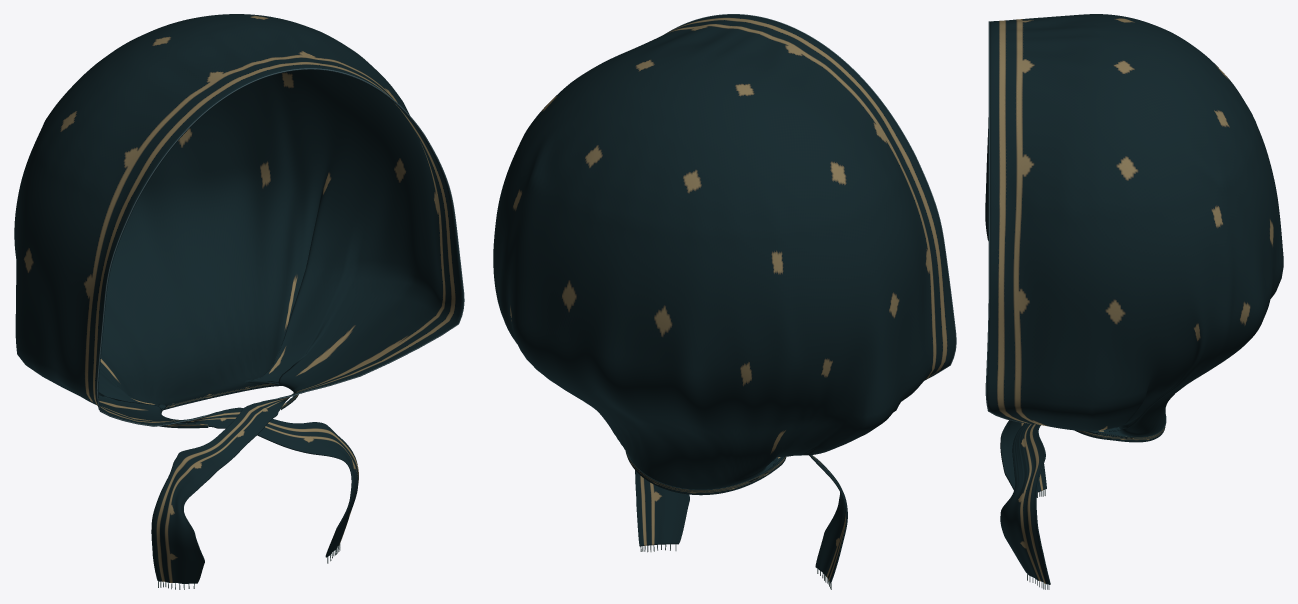
The model's file is Feminine-open-compact-pashmina248-headgear.glb.
3 renders of one model, left to right at view 1: azimuth 30°, elevation 25°; view 2: azimuth 150°, elevation 25°; view 3: azimuth 270°, elevation 25°, orthographic. The views are drawn at different scales.
Parts seen in each view (by area): view 1: 226 headgear / Headwear / continuous woven pashmina239, 226 headgear / Headwear / face edge239; view 2: 226 headgear / Headwear / continuous woven pashmina239, 226 headgear / Headwear / face edge239; view 3: 226 headgear / Headwear / continuous woven pashmina239, 226 headgear / Headwear / face edge239.
Part boxes in pixels (bbox=[...]): 226 headgear / Headwear / continuous woven pashmina239: bbox=[14, 14, 463, 583]; 226 headgear / Headwear / face edge239: bbox=[96, 68, 464, 426]; 226 headgear / Headwear / continuous woven pashmina239: bbox=[493, 14, 955, 583]; 226 headgear / Headwear / face edge239: bbox=[664, 14, 956, 379]; 226 headgear / Headwear / continuous woven pashmina239: bbox=[985, 14, 1283, 584]; 226 headgear / Headwear / face edge239: bbox=[985, 21, 1031, 423].
Size of the model in its own units: 1.02 by 1.35 by 0.7112.
3 materials, 1 textured.
